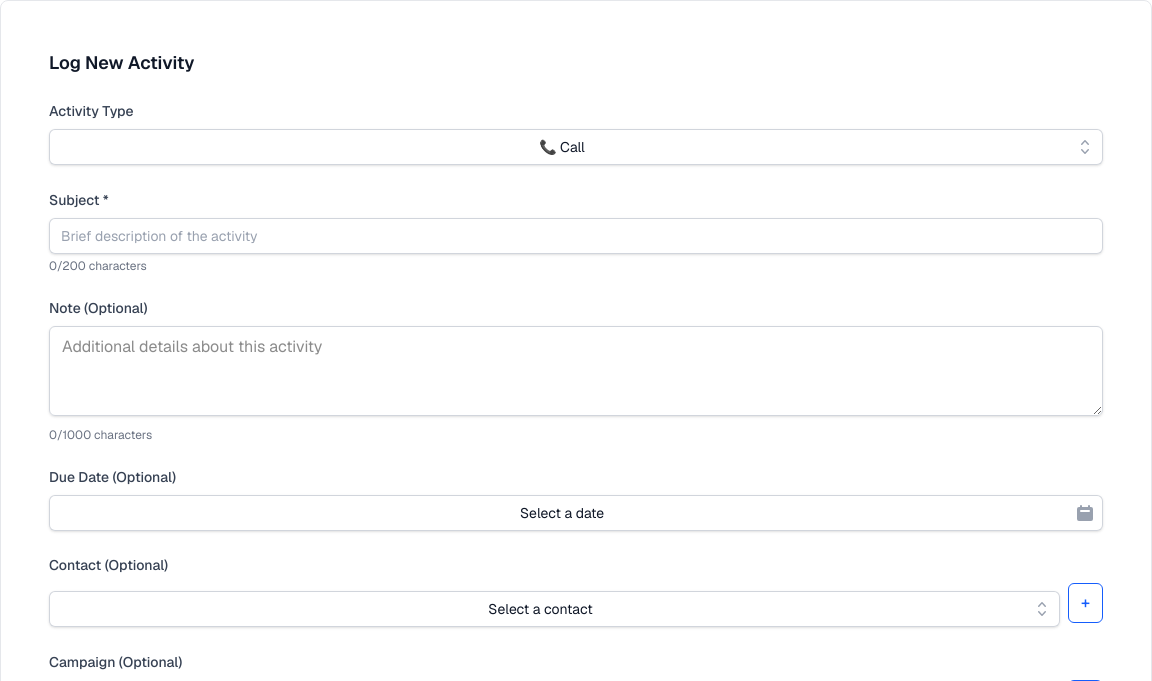
ActivityForm › should show character count for subject
Type "Test subject" into the field labelled "Subject *" at (576, 236), box [49,218,1103,254]
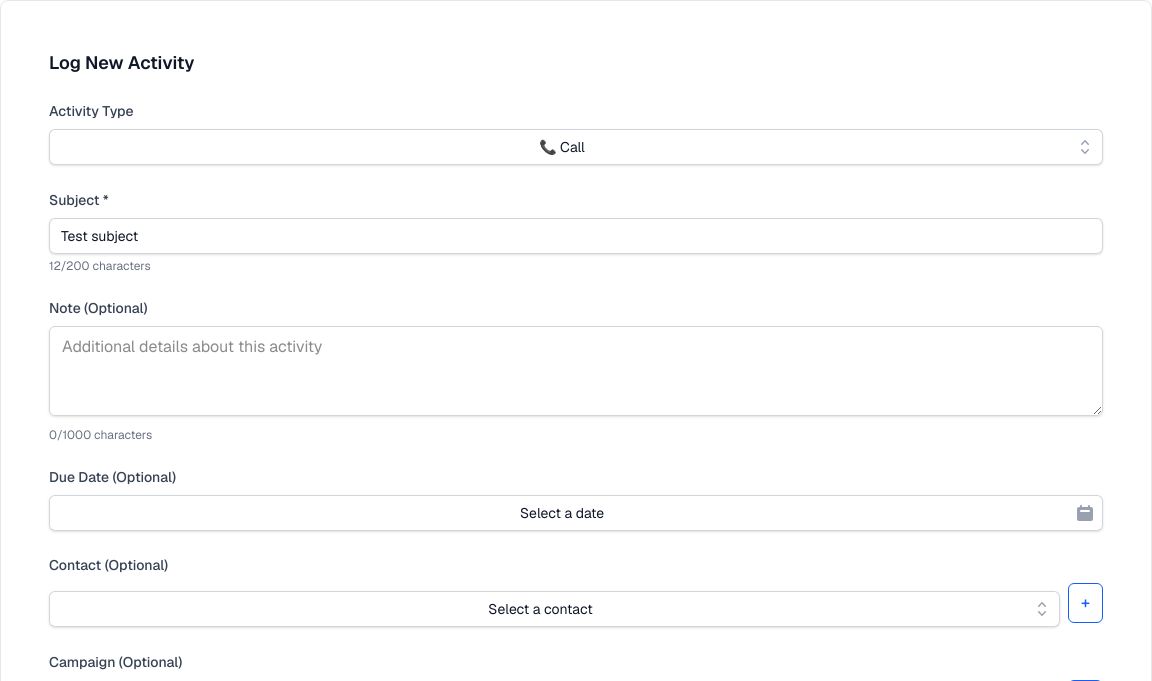
Now the text "12/200 characters" is shown, box [49,258,151,274]
